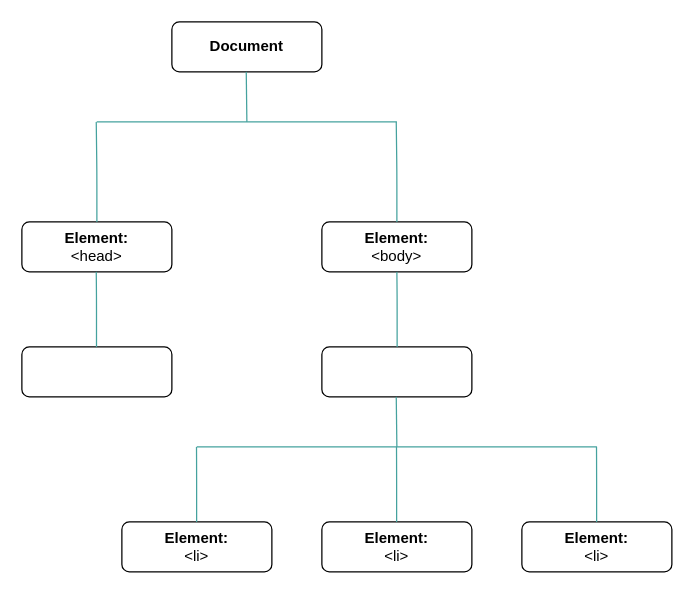
This 694x594 diagram has some shape labels left out. The shapes that lost their labels are listed below. From the top down, each one's box as (x1, y1, x2, y2) in pixels, then its label:
(21, 346, 172, 397): Element: <link rel="stylesheet."...>
(321, 346, 472, 397): Element: <ul>
